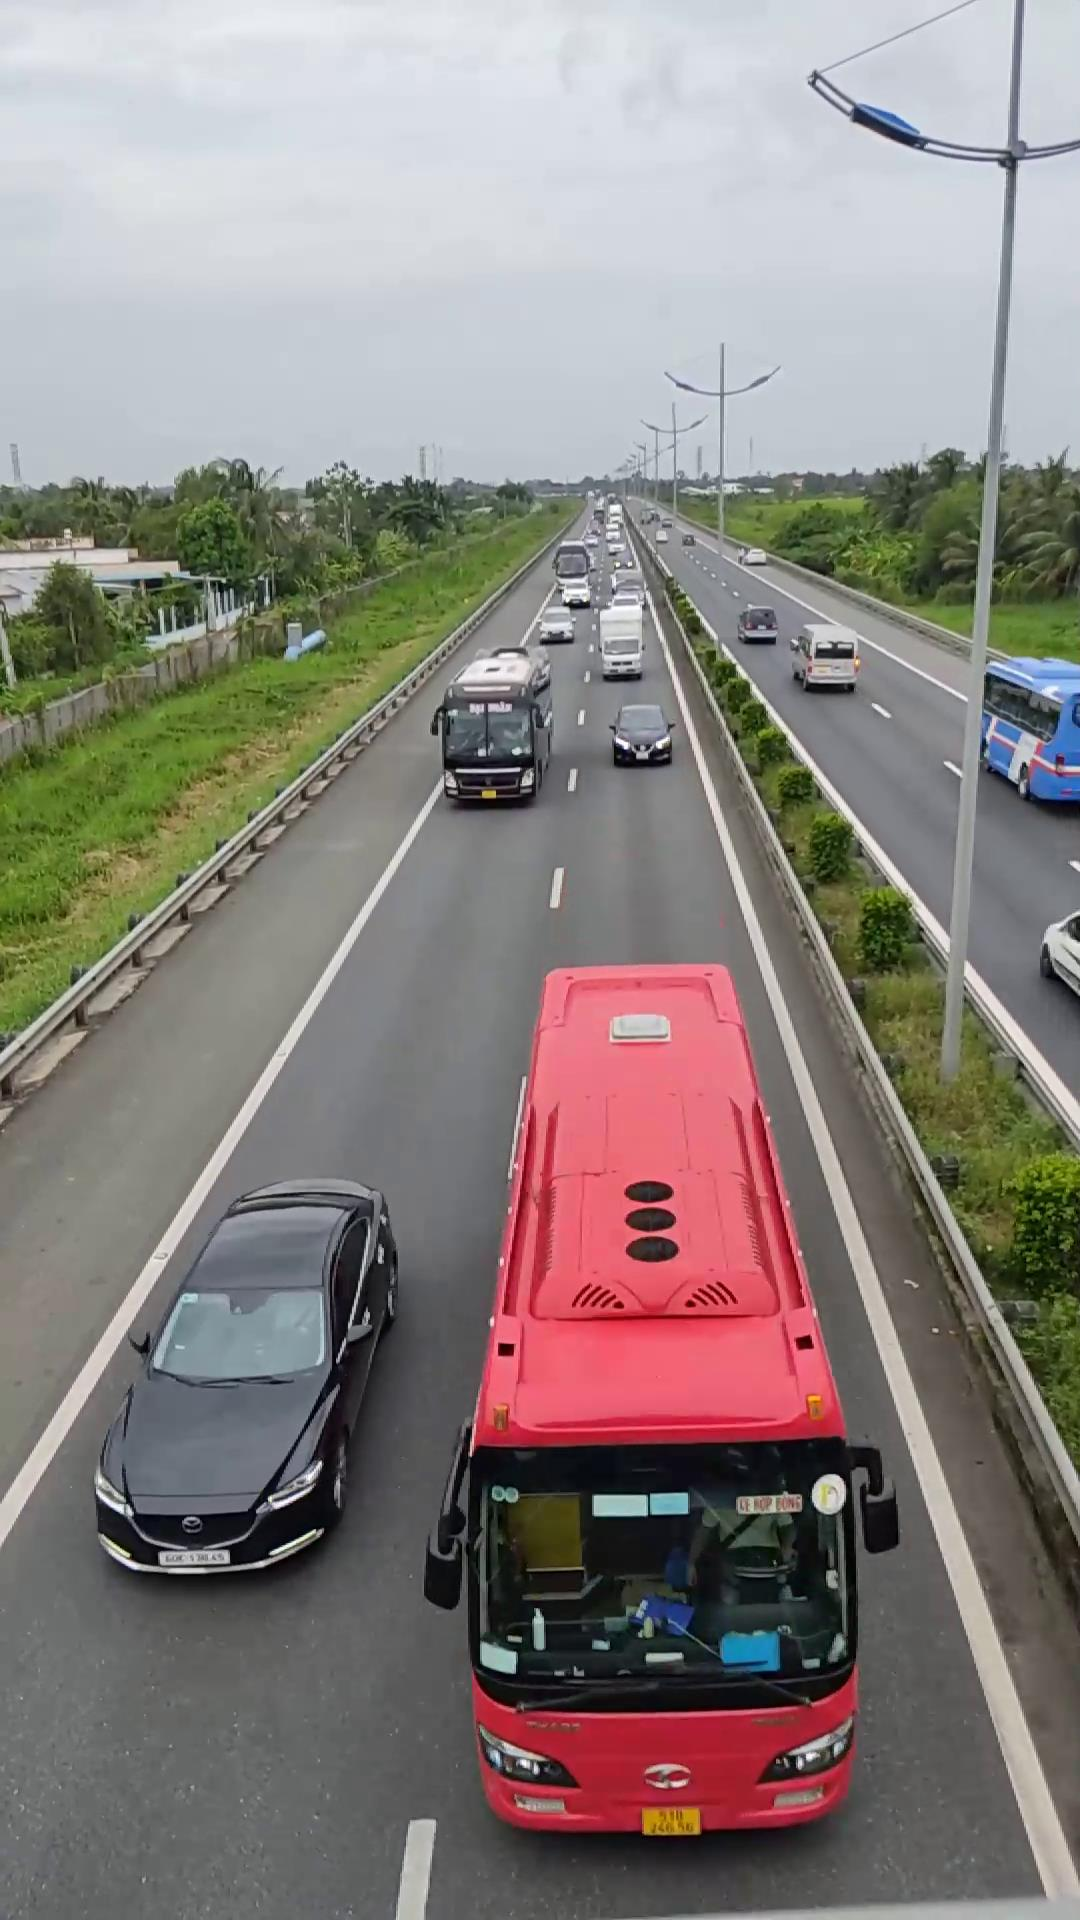bus: (431, 958, 884, 1836), (436, 649, 553, 805)
car: (89, 1177, 401, 1575), (787, 620, 861, 690), (607, 702, 675, 764)
truck: (978, 652, 1078, 807)
